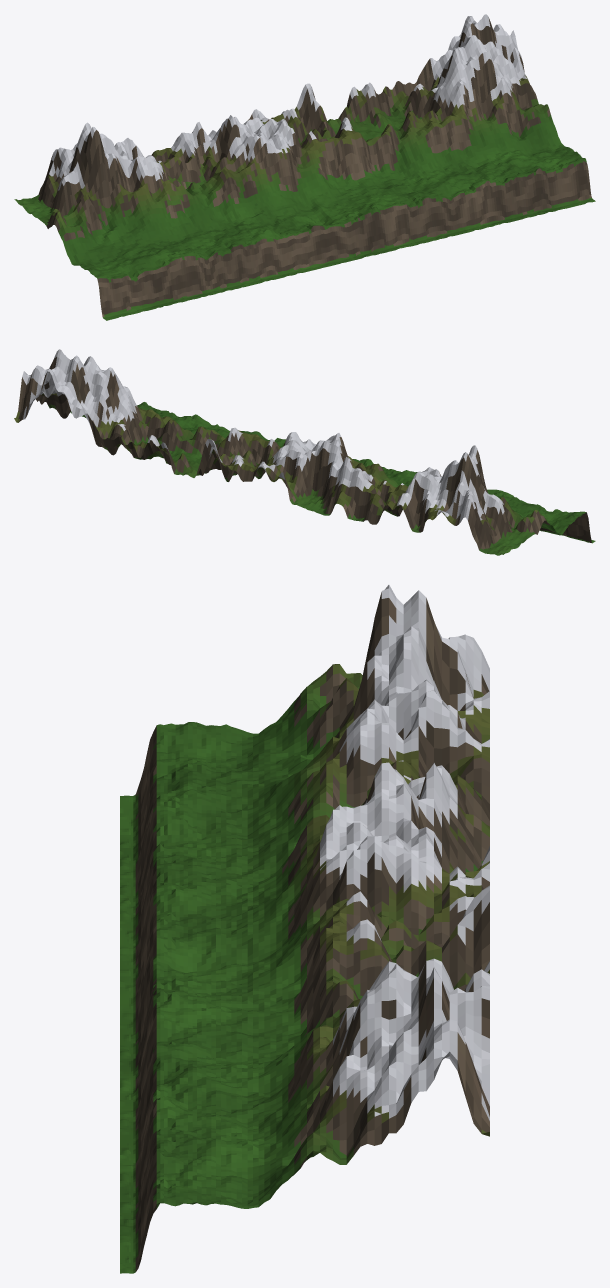
Rendered from cliff_backdrop.glb.
3 views of the same model, one above another, from view 1: azimuth 30°, elevation 25°; view 2: azimuth 150°, elevation 25°; view 3: azimuth 270°, elevation 25° (orthographic). The views are drawn at different scales.
Parts seen in each view (by area): view 1: backdrop; view 2: backdrop; view 3: backdrop.
Part boxes in pixels (x1,y1,x2,y2): backdrop: [14, 14, 595, 320]; backdrop: [14, 349, 595, 555]; backdrop: [120, 585, 489, 1273].
Size of the model in its own units: 22 by 5.9 by 7.2.
